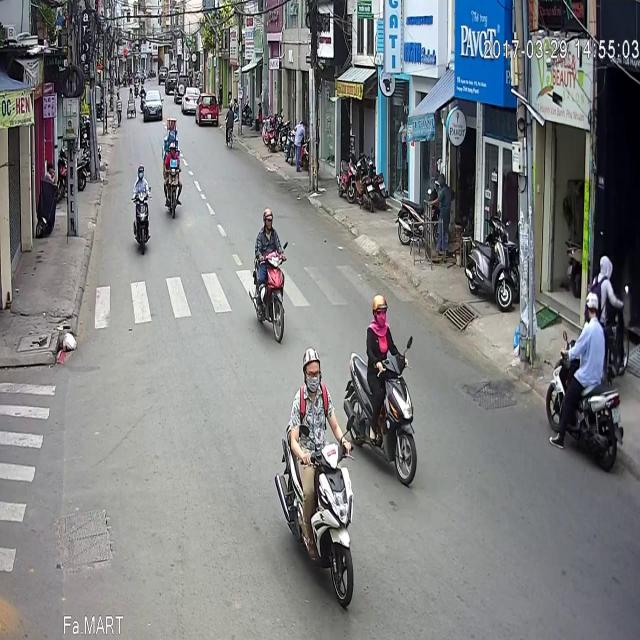car: (194, 32, 218, 67), (144, 30, 162, 64)
motorcycle: (275, 285, 354, 609), (546, 234, 626, 412), (342, 236, 416, 428), (251, 148, 287, 282), (128, 108, 152, 198), (162, 82, 181, 158), (223, 44, 235, 90)
